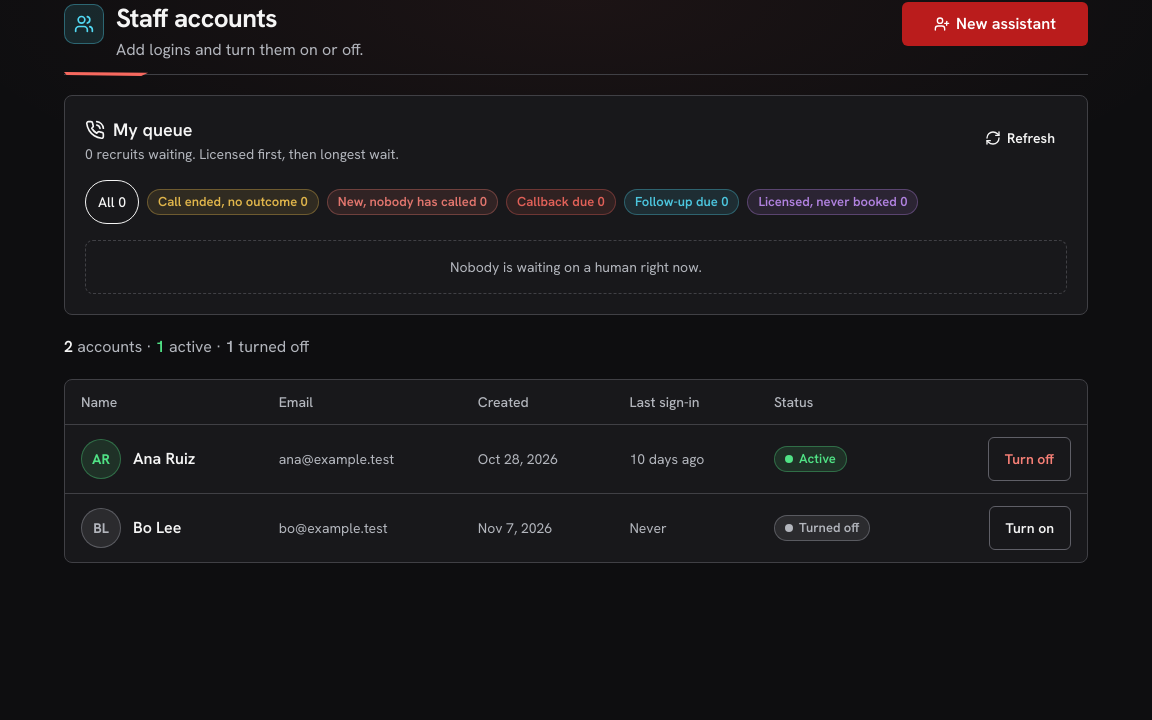
Scenario: Staff accounts › a failed create keeps what was typed and says the server's reason on the page
Click the button "New assistant" at (995, 24), box [902, 2, 1088, 46]
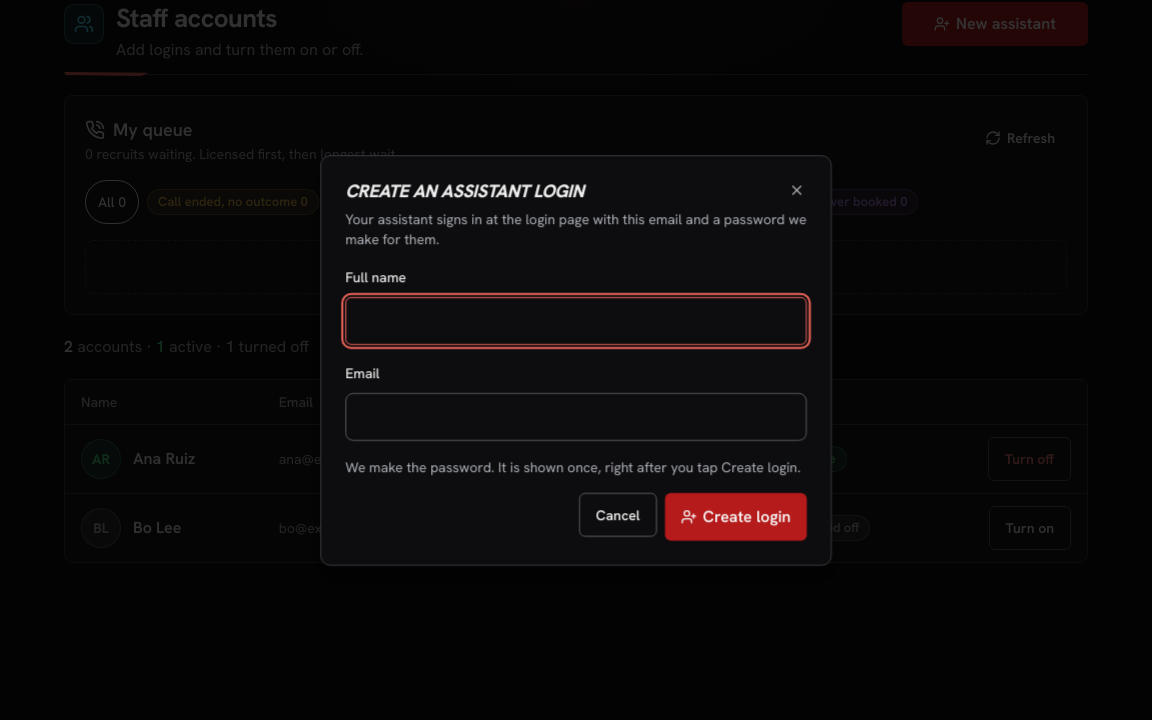
Type "Ed Kim" into the field labelled "Full name" at (576, 320), box [345, 296, 807, 344]
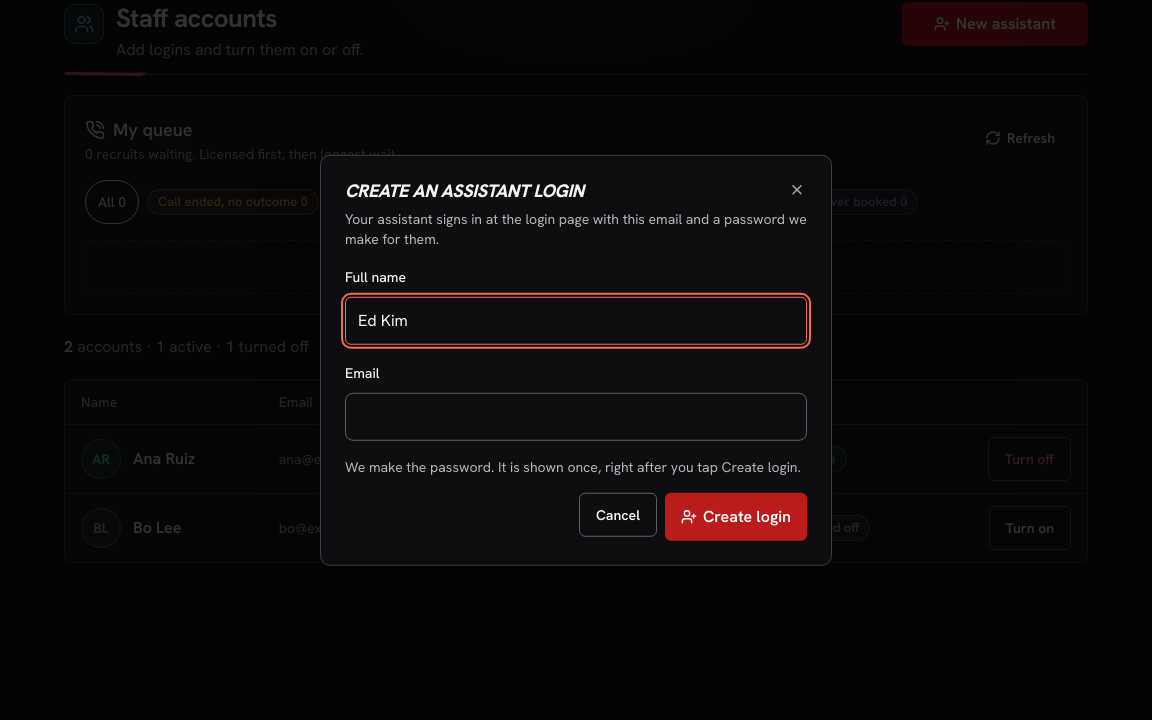
Type "ana@example.test" into the field labelled "Email" at (576, 416), box [345, 392, 807, 440]
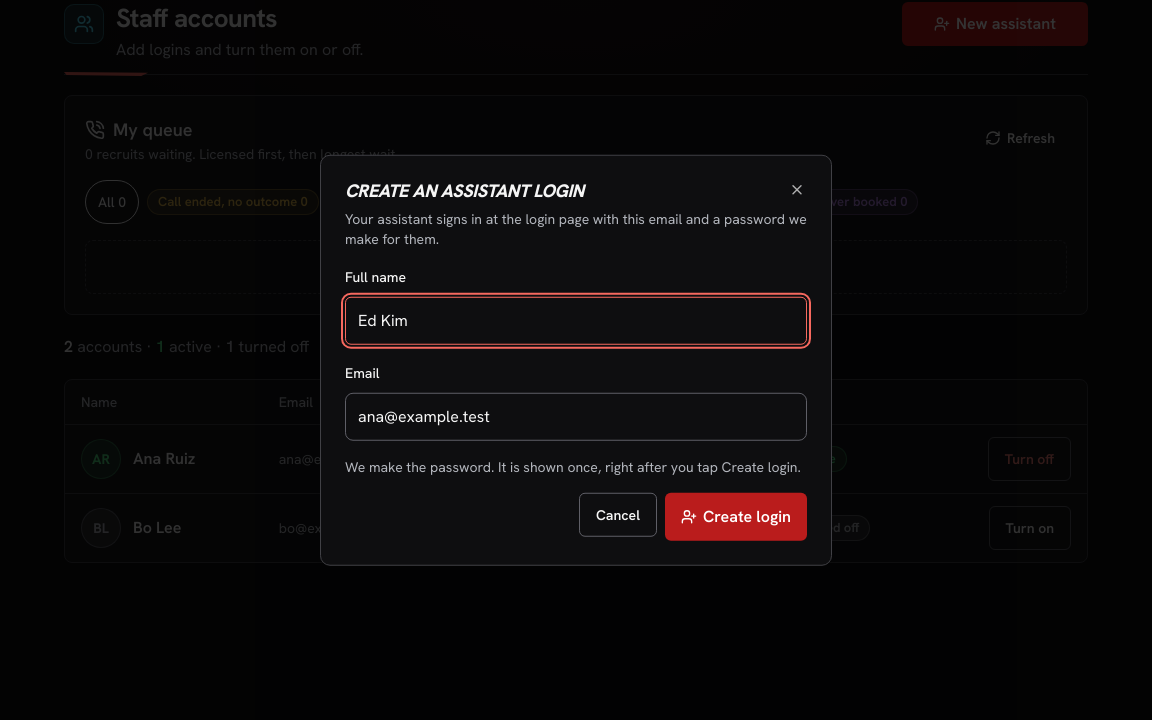
Click the button "Create login" at (736, 516), box [665, 492, 807, 540]
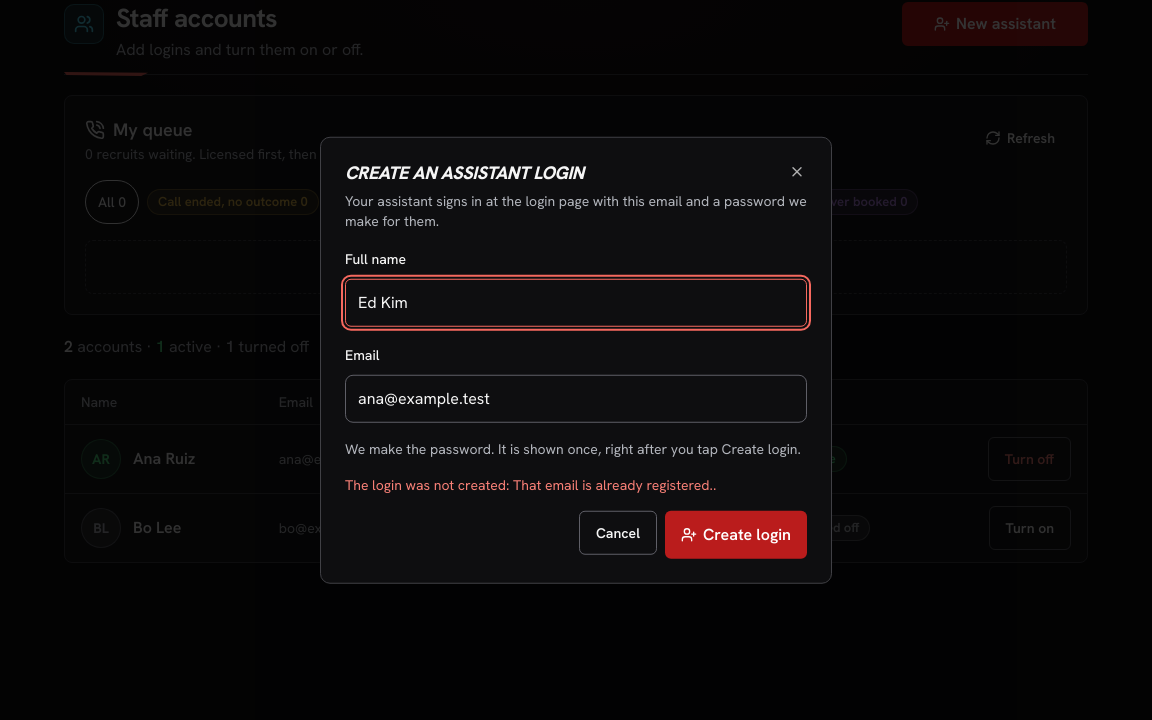
Expected: the button "Create login" is enabled, [665, 510, 807, 558]
Expected: the message shows "The login was not created: That email is already registered.", [345, 475, 716, 493]
